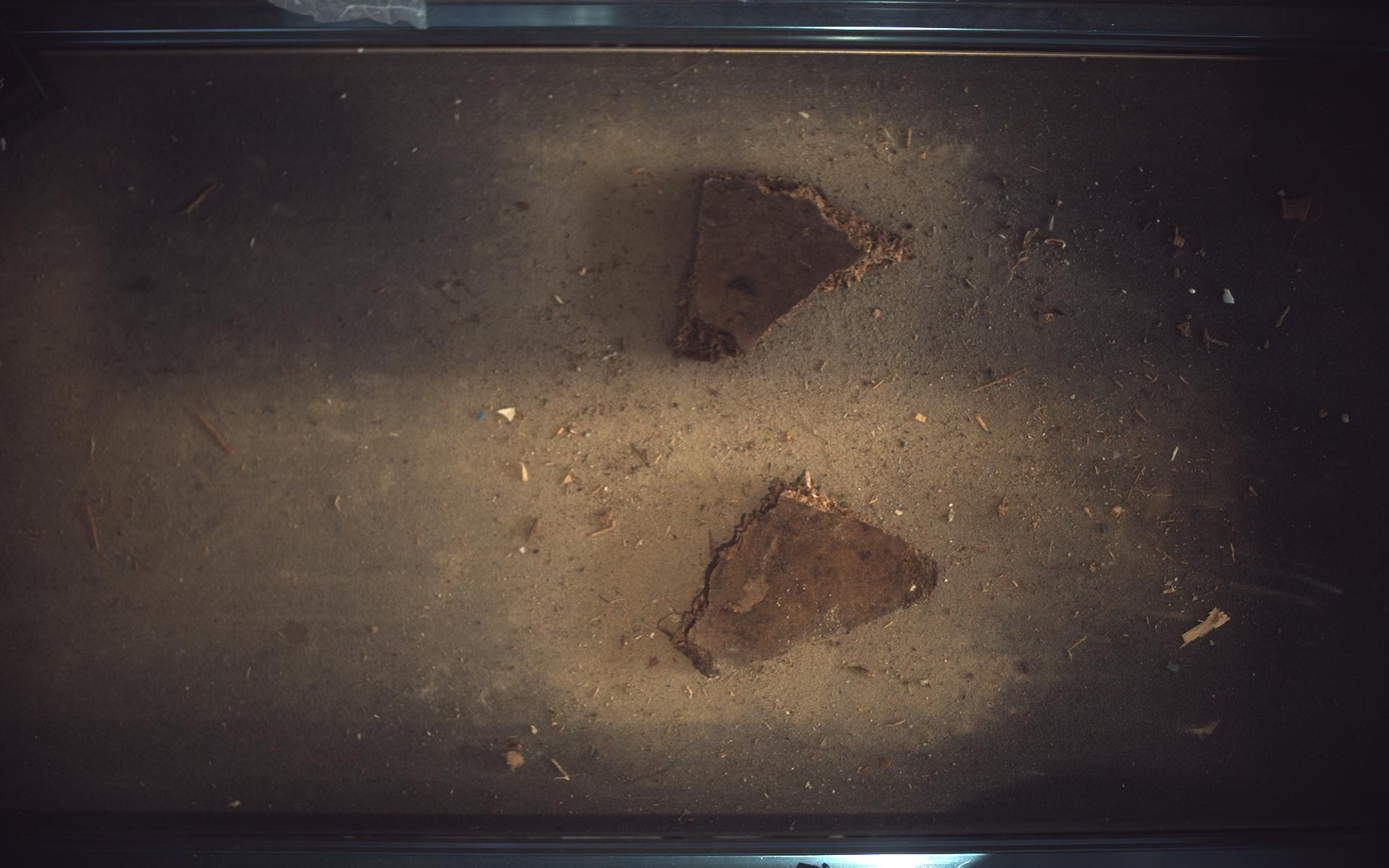wood: (672, 472, 939, 678), (674, 174, 912, 361)
